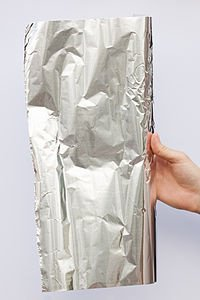metal: (24, 13, 158, 291)
